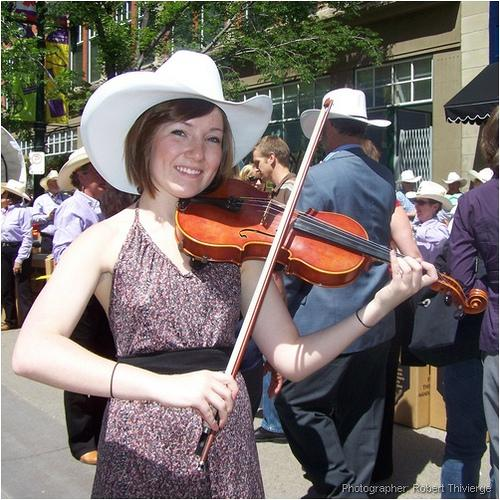person: (13, 49, 438, 500)
